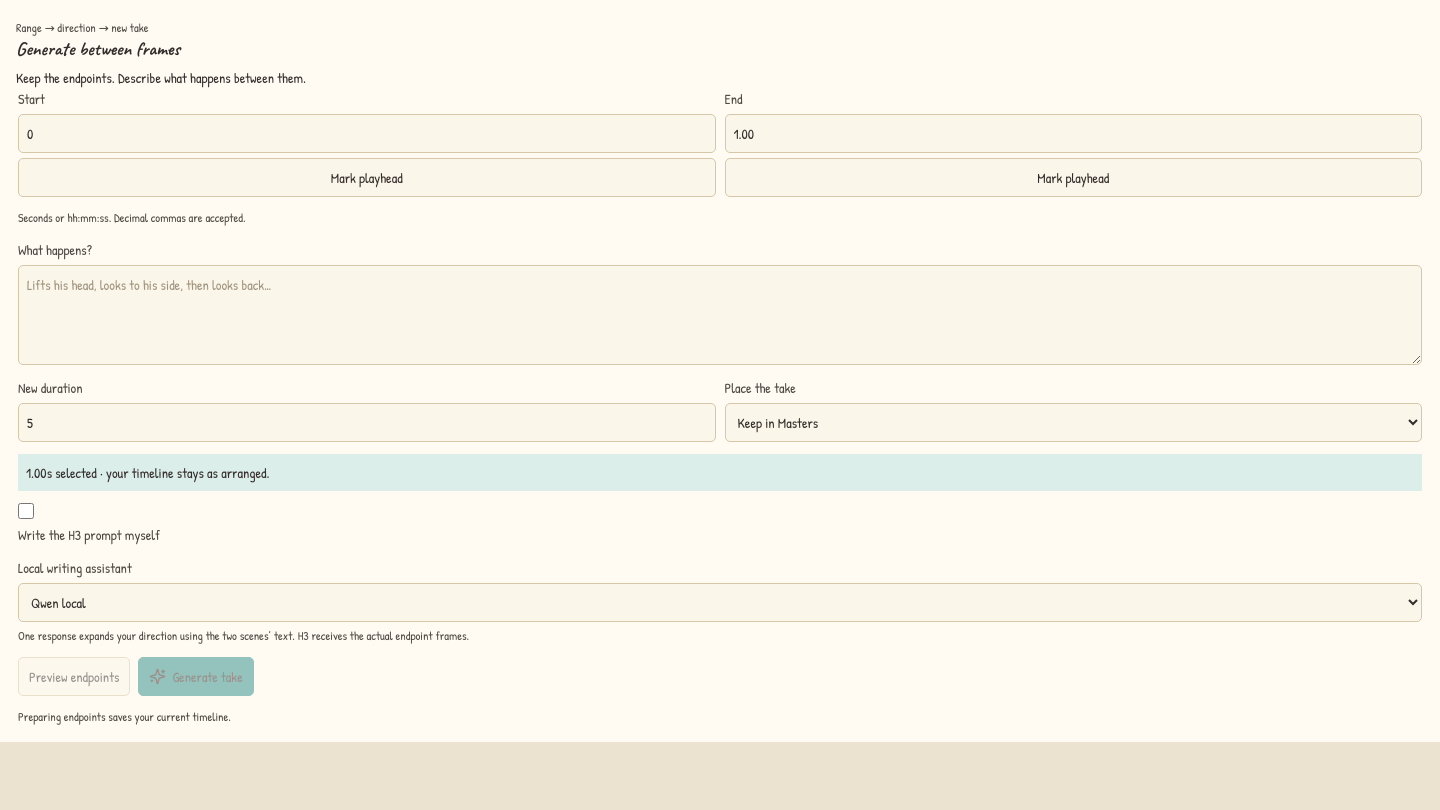
Test: producer endpoint generation › offers explicit generation of prepared endpoints without automatically starting it
Type "Lifts his head" into the text box named "New take direction". click: (720, 315)
box: [18,265,1422,365]
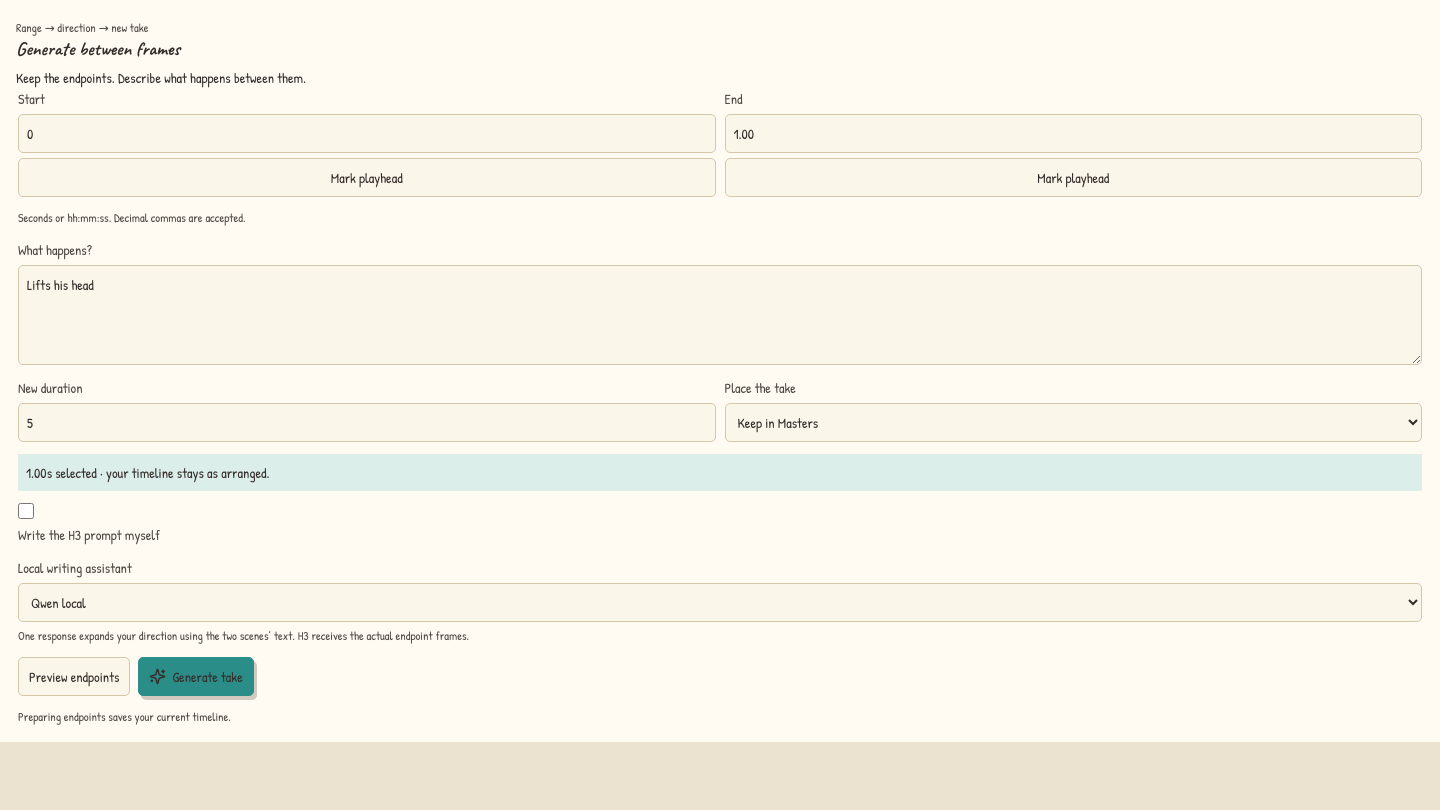
Click the button "Preview endpoints". click: (74, 677)
box: [18,657,130,696]
(page scrolled)
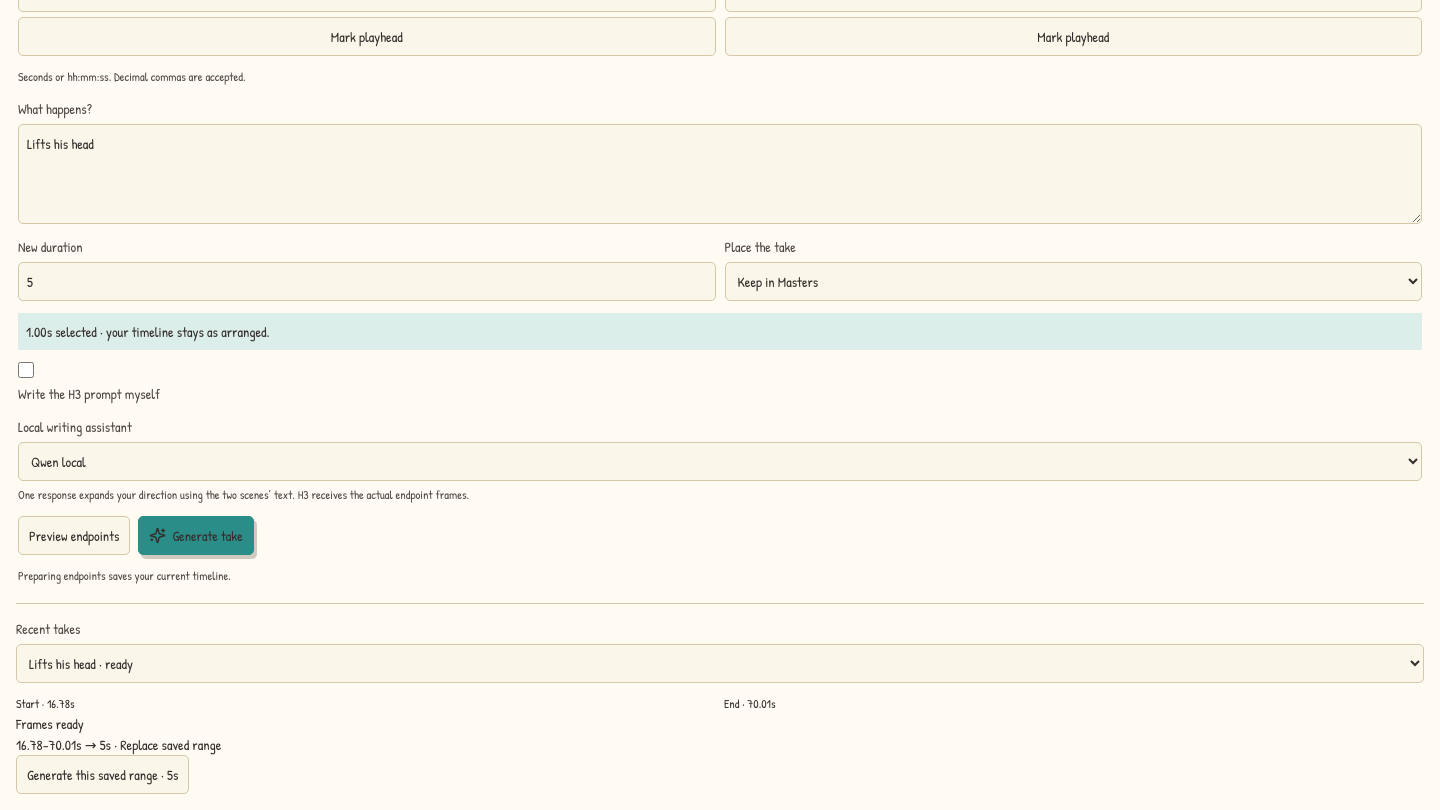
Now the text "Frames ready" is shown, box [16,714,84,733]
Now the text "16.78–70.01s → 5s · Replace saved range" is shown, box [16,735,221,754]
